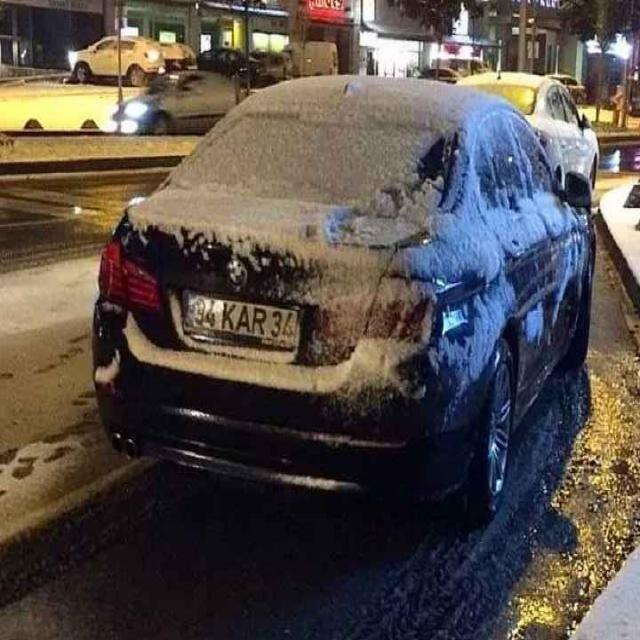plate: (181, 290, 302, 350)
